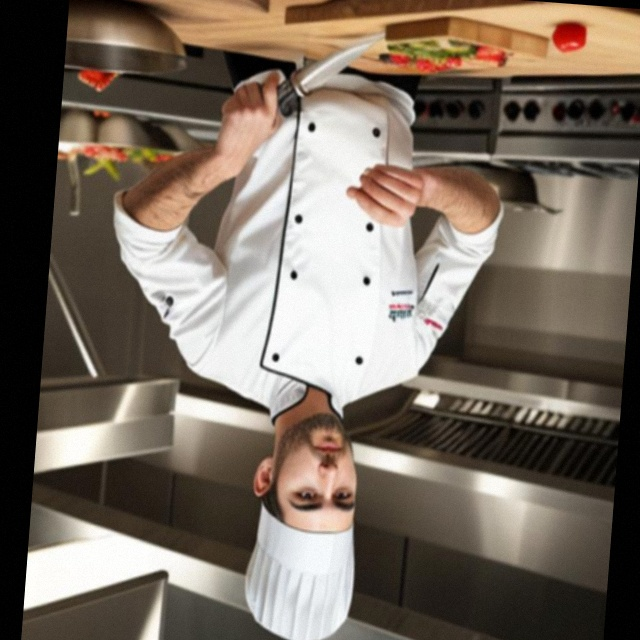Sharp-Object: (258, 17, 388, 137)
